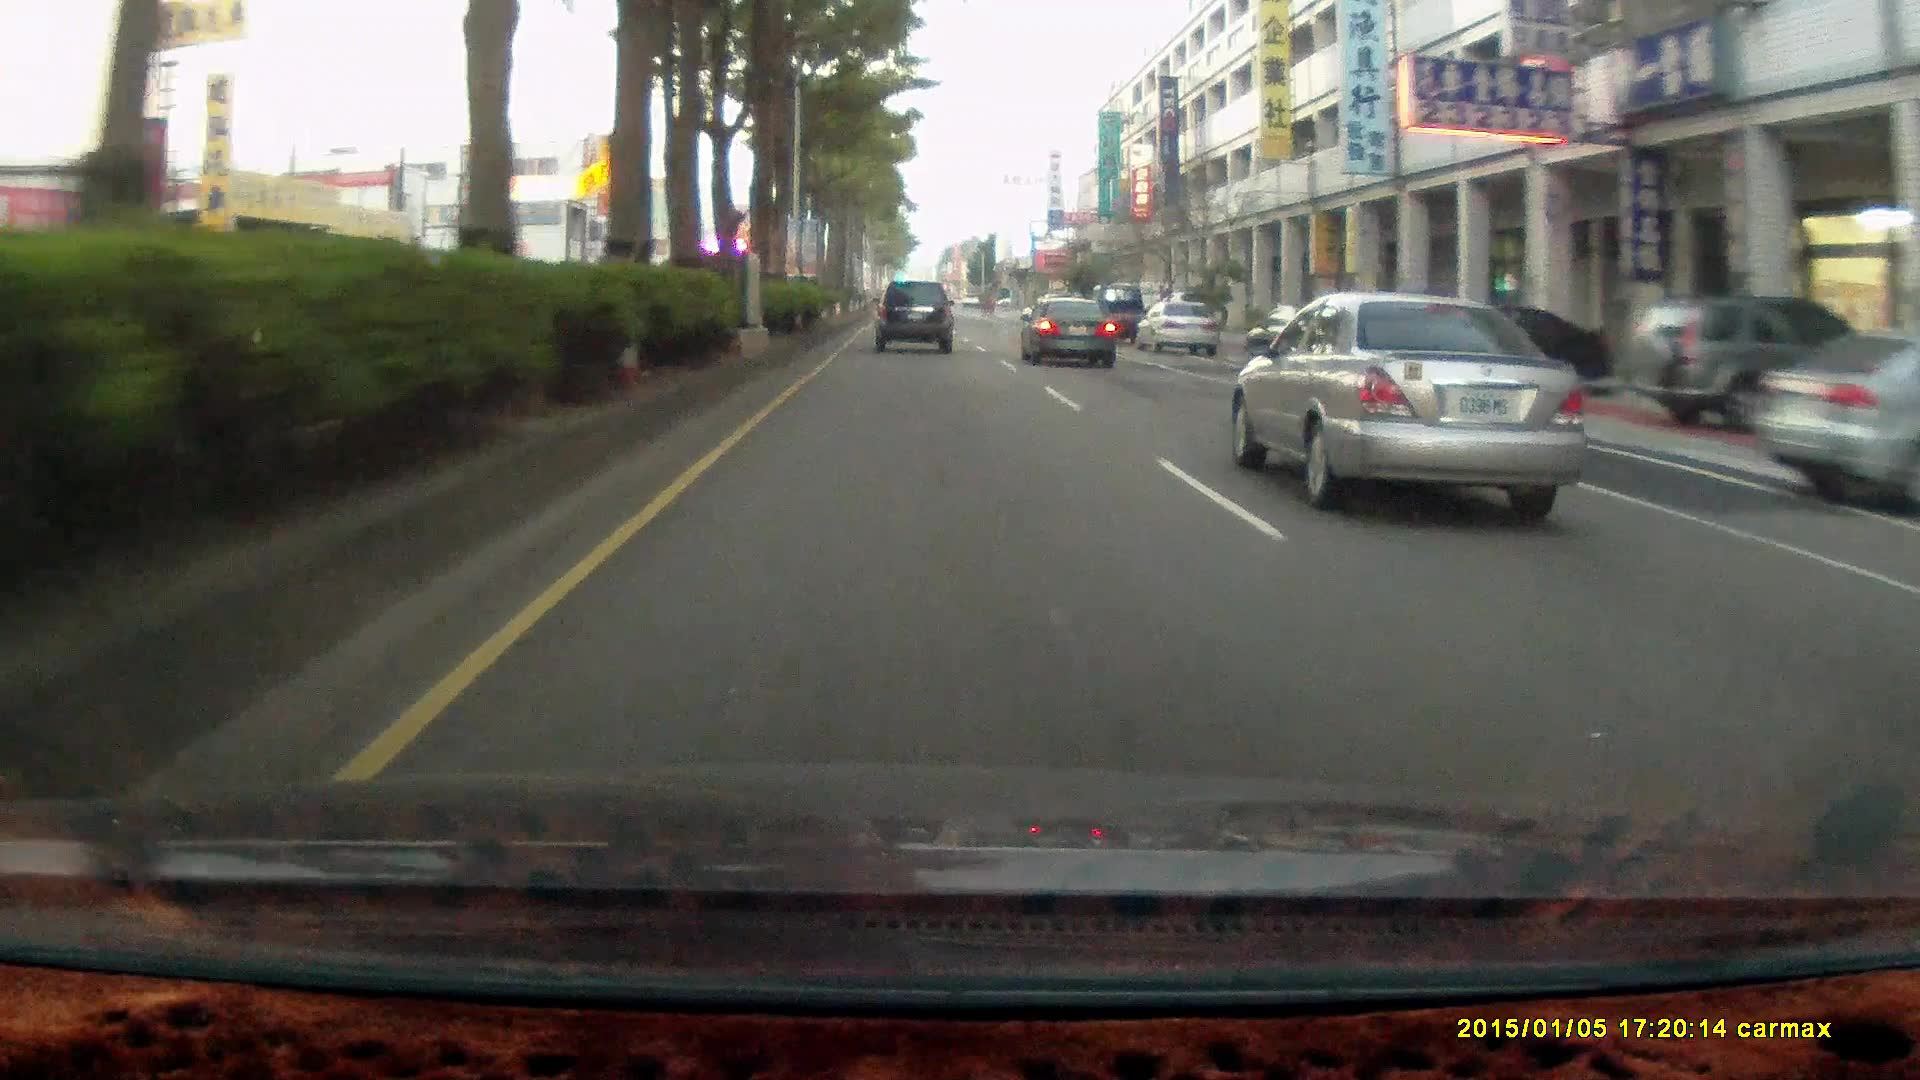vehicle: (1226, 291, 1600, 520), (1630, 298, 1879, 439), (1630, 298, 1867, 440), (1749, 330, 1920, 517), (1756, 330, 1920, 522), (1406, 305, 1611, 396), (1244, 297, 1389, 378), (1021, 298, 1121, 375), (1018, 294, 1116, 367), (874, 280, 957, 356), (872, 280, 955, 351), (1131, 303, 1221, 360), (1142, 306, 1225, 357), (1084, 284, 1145, 343)
